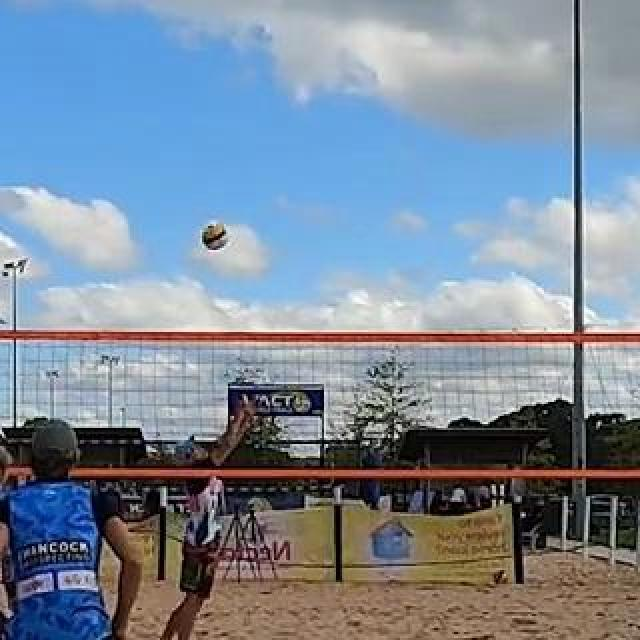volleyball: (201, 222, 227, 250), (493, 568, 509, 584)
